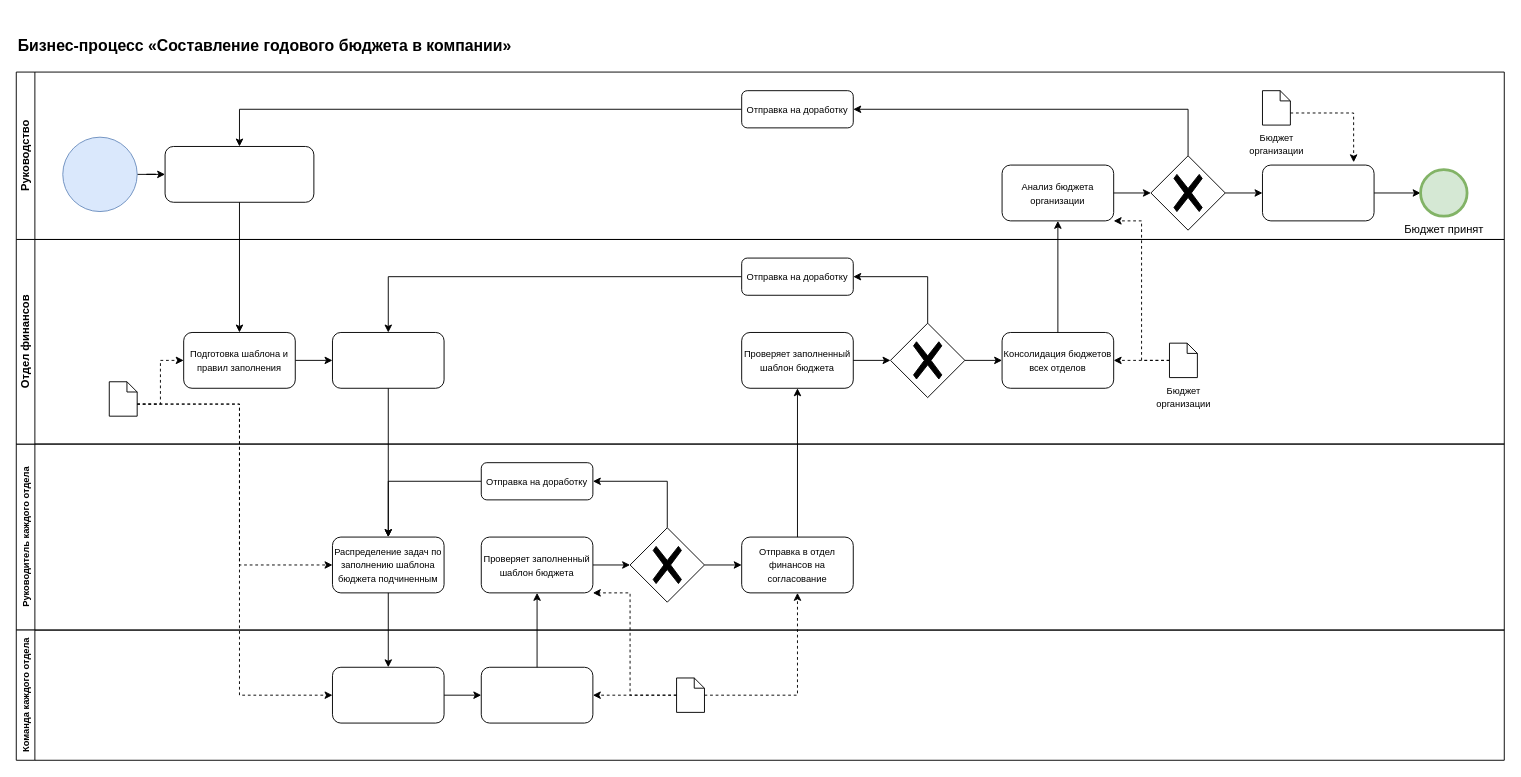
Image size: 1521x777. Some labels were removed from this diagram. The centre of each missing label's shape, as x and y in pixels:
"Бюджет отдела" goes at [690,694].
"Заполнение шаблона бюджета (включая доработку)" goes at [388,694].
"Отправка на согласование руководителю" goes at [536,694].
"Подписание приказа о бюджете" goes at [1318,192].
"Постановка задачи подготовки годового бюджета (включая доработку)" goes at [239,174].
"Постановка задачи руководителям отделов о формировании бюджета" goes at [388,360].
"Пришло время формирования годового бюджета" goes at [99,174].
"Шаблон бюджета" goes at [122,398].
